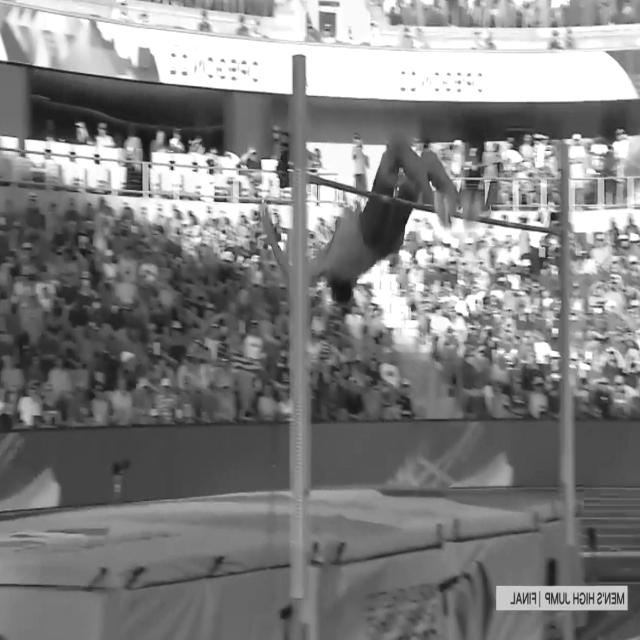jump: (259, 139, 478, 306)
